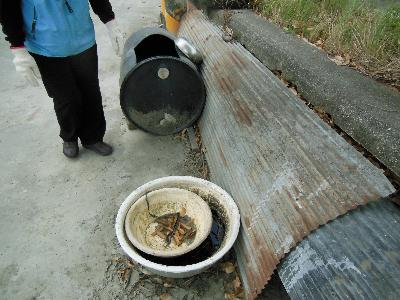bowl: (114, 174, 242, 279), (124, 188, 214, 256), (175, 35, 203, 64)
bucket: (119, 25, 207, 136)
